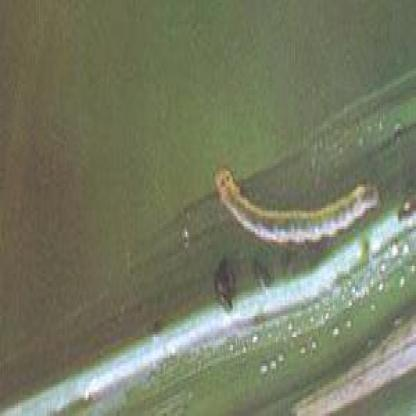leaf-folder: (212, 155, 381, 253)
